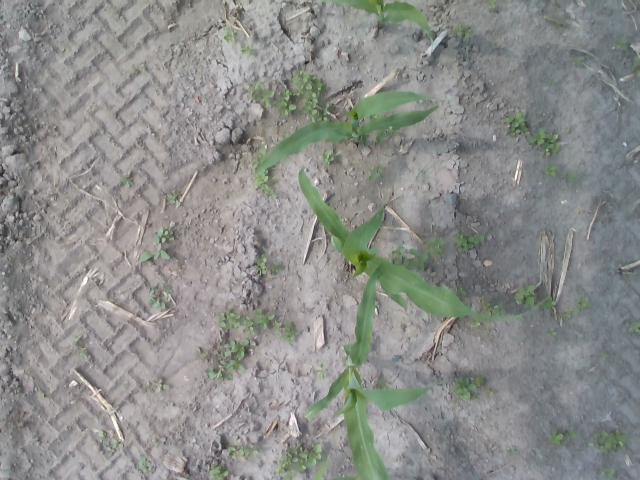Maize: (298, 167, 550, 322), (304, 265, 434, 480), (253, 92, 439, 172), (344, 1, 435, 42)
Weeds: (198, 339, 248, 379), (288, 72, 324, 119), (528, 130, 564, 156), (454, 374, 484, 398), (393, 246, 429, 266), (596, 429, 628, 451), (276, 450, 298, 480), (250, 81, 274, 108), (298, 444, 322, 468), (454, 233, 485, 251), (140, 244, 170, 262), (98, 430, 118, 456), (506, 111, 526, 136), (512, 284, 534, 306), (550, 428, 576, 445), (148, 287, 168, 309), (424, 236, 444, 256), (282, 322, 300, 344), (254, 309, 274, 328), (208, 461, 228, 480), (254, 174, 275, 192), (154, 226, 175, 243), (279, 96, 296, 116), (220, 312, 241, 328), (230, 448, 260, 458), (240, 316, 254, 336), (318, 150, 336, 164), (455, 22, 473, 36), (256, 254, 268, 274), (138, 456, 152, 470), (224, 27, 236, 42), (120, 176, 134, 188), (626, 320, 639, 332), (616, 37, 628, 50), (563, 172, 580, 181), (482, 304, 497, 314), (577, 297, 589, 309), (318, 364, 328, 378), (156, 380, 169, 390), (604, 464, 614, 477), (168, 192, 179, 203), (270, 264, 285, 272), (546, 167, 556, 176), (486, 0, 496, 8), (74, 334, 83, 342), (242, 46, 252, 53), (547, 301, 555, 308), (547, 328, 555, 335), (574, 59, 582, 66), (564, 310, 572, 316)
